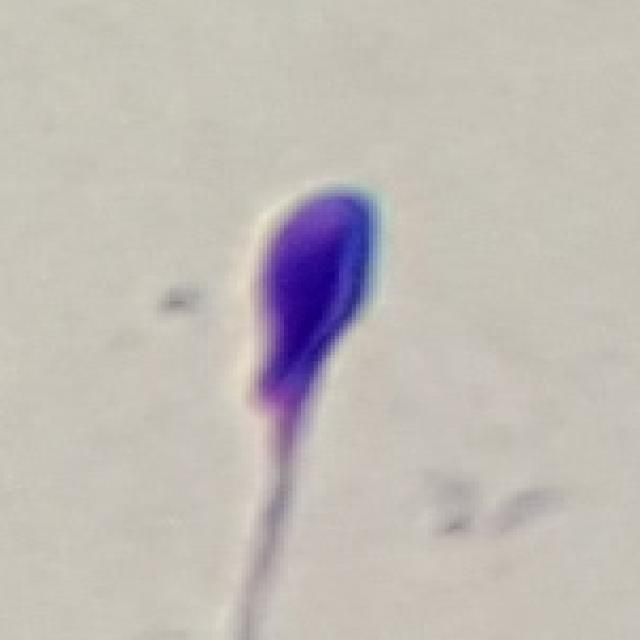abnormal sperm: (250, 181, 372, 627)
